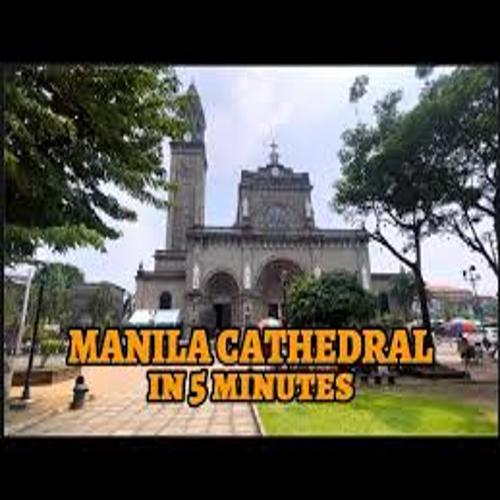Manila Cathedral Church: (127, 74, 414, 331)
